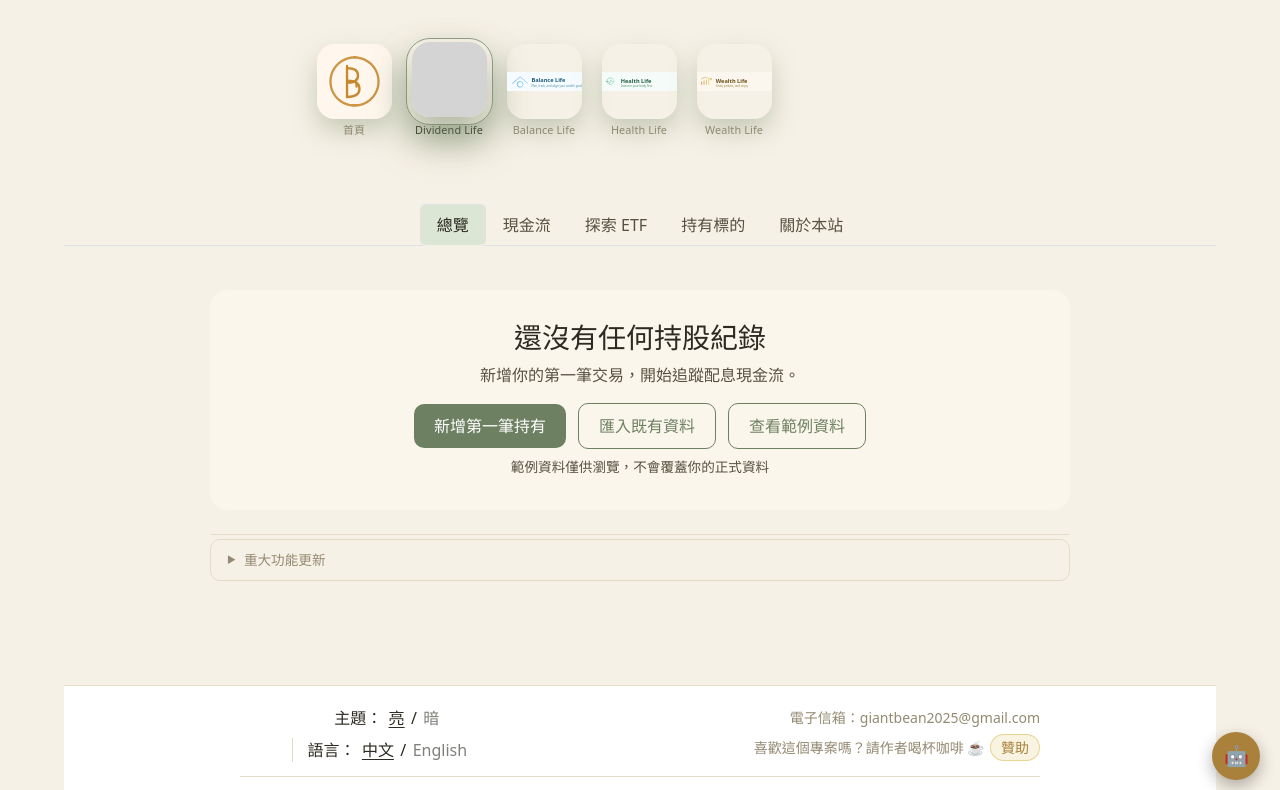
Test case: the day-detail list shows an annualized yield for an Explore tab event
Click the tab "探索 ETF" at x=616, y=225, box [568,204,664,246]
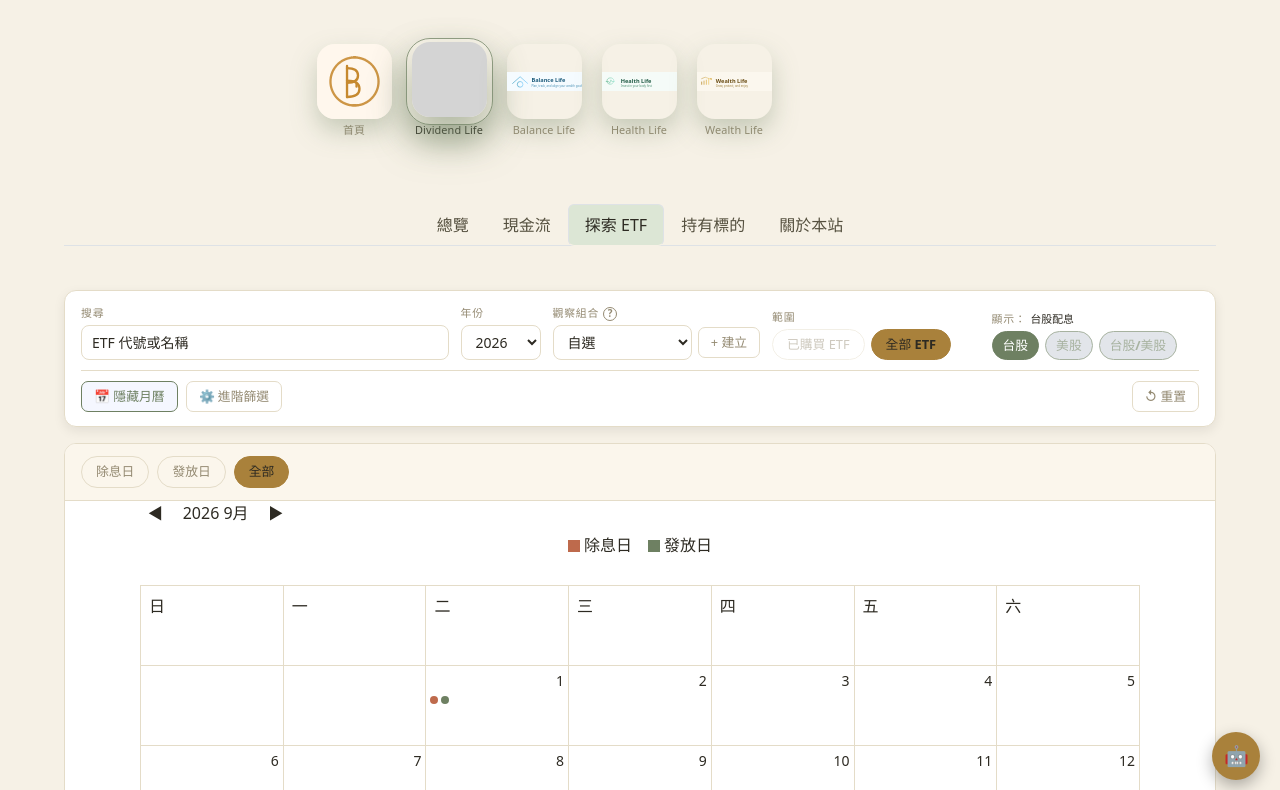
Click the button "1" at x=560, y=680, box [556,670,564,691]
(page scrolled)
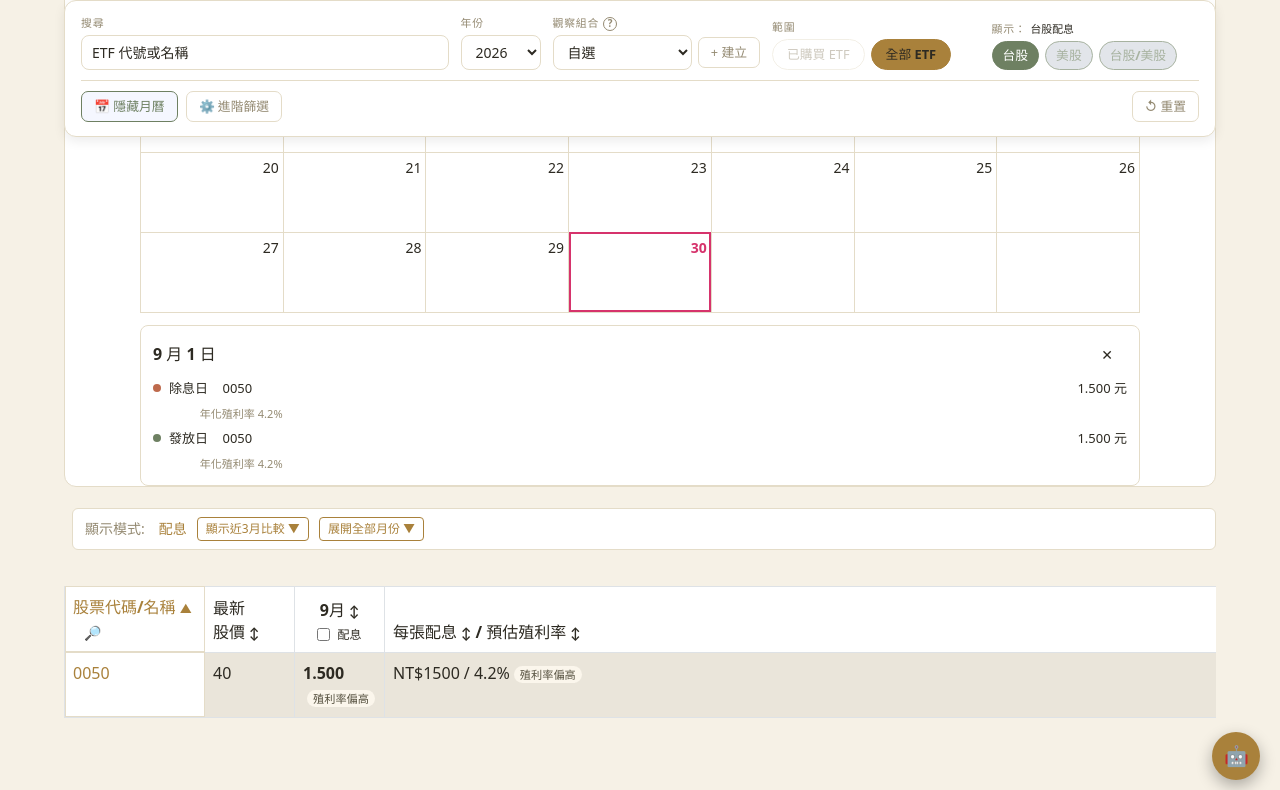
Expected: the list item "0050" shows "年化殖利率", [200,406,255,421]
Expected: the list item "0050" shows "4.2%", [153,379,1127,423]
